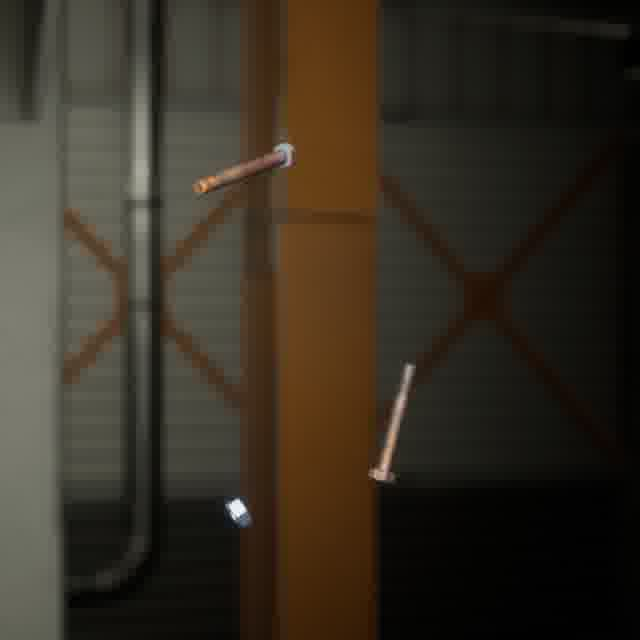bolt: (364, 358, 420, 487), (188, 137, 301, 199)
nut: (221, 492, 256, 532)
